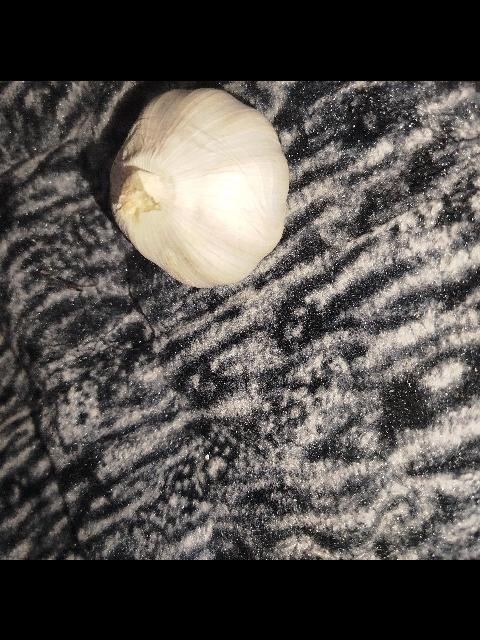garlic: (109, 86, 290, 288)
